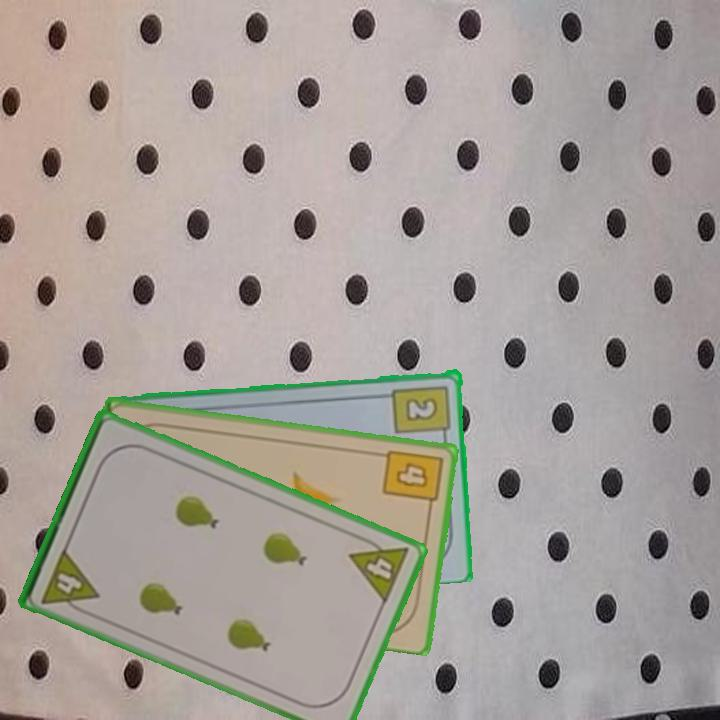2b: (390, 381, 454, 443)
4b: (379, 446, 445, 514)
4p: (346, 531, 413, 606), (38, 544, 102, 618)
